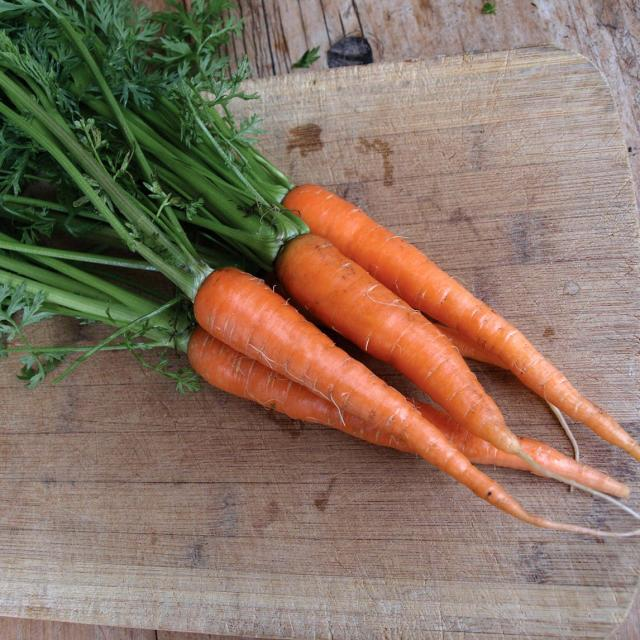Fresh_Carrot: (314, 186, 500, 433), (211, 267, 413, 436)
